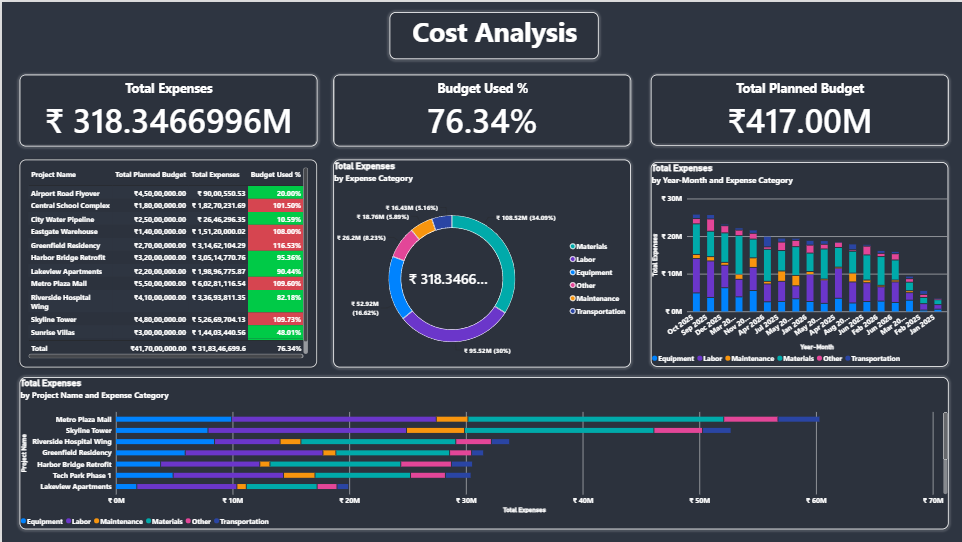

Layout of this report page (visuals, bound fields, positions):
{"tool":"powerbi","page":{"name":"Cost Analysis","canvas":[1920,1080],"ordinal":4},"visuals":[{"type":"cardVisual","fields":{"Data":["_Measures.Total Planned Budget"]},"box":[1298,146,596,142],"z":0},{"type":"cardVisual","fields":{"Data":["_Measures.Total Expenses"]},"box":[34,144,596,144],"z":1000},{"type":"cardVisual","fields":{"Data":["_Measures.Budget Used %"]},"box":[662,144,596,144],"z":2000},{"type":"donutChart","fields":{"Category":["Expenses.Expense Category"],"Y":["_Measures.Total Expenses"]},"box":[662.8,314,595.3,416.3],"z":3000},{"type":"columnChart","fields":{"Y":["_Measures.Total Expenses"],"Series":["Expenses.Expense Category"],"Category":["Calendar.Year-Month"]},"box":[1297.7,320.9,595.3,409.3],"z":4000},{"type":"barChart","fields":{"Y":["_Measures.Total Expenses"],"Category":["Projects.Project Name"],"Series":["Expenses.Expense Category"]},"box":[34.9,748.8,1858.1,304.7],"z":5000},{"type":"tableEx","fields":{"Values":["Projects.Project Name","_Measures.Total Planned Budget","_Measures.Total Expenses","_Measures.Budget Used %"]},"box":[34.9,314,595.3,416.3],"z":6000},{"type":"textbox","box":[774,20,418,94],"z":7000}]}

Visuals, with their boxes in screenshot pixels (x1, y1, x2, y2), scaled from the page's 1920x1080 canvas onto the 962x542 screenshot:
cardVisual - _Measures.Total Planned Budget: 650, 73, 949, 145
cardVisual - _Measures.Total Expenses: 17, 72, 316, 145
cardVisual - _Measures.Budget Used %: 332, 72, 630, 145
donutChart - Expenses.Expense Category x _Measures.Total Expenses: 332, 158, 630, 367
columnChart - _Measures.Total Expenses x Expenses.Expense Category: 650, 161, 948, 366
barChart - _Measures.Total Expenses x Projects.Project Name: 17, 376, 948, 529
tableEx - Projects.Project Name x _Measures.Total Planned Budget: 17, 158, 316, 367
textbox: 388, 10, 597, 57
